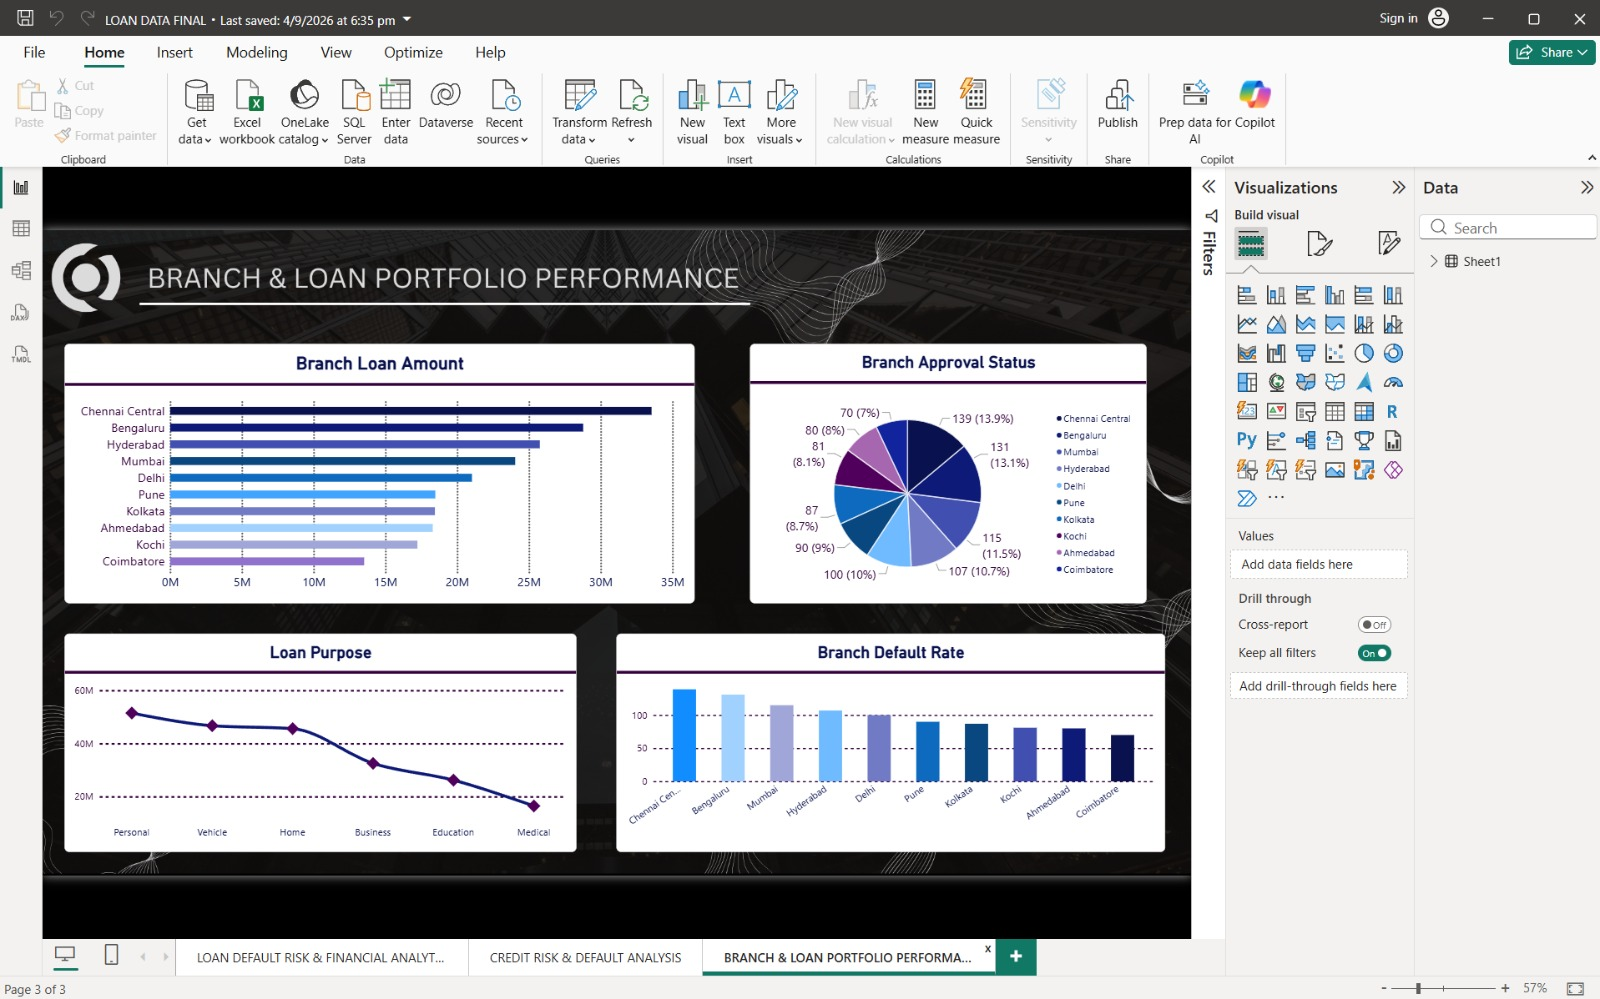

Layout of this report page (visuals, bound fields, positions):
{"tool":"powerbi","page":{"name":"BRANCH & LOAN PORTFOLIO PERFORMANCE","canvas":[1920,1080],"ordinal":2},"visuals":[{"type":"shape","box":[161.5,15.4,1021.2,215.4],"z":0},{"type":"barChart","title":"Branch Loan Amount","fields":{"Category":["Sheet1.Branch"],"Y":["Sum(Sheet1.Loan_Amount_INR)"]},"box":[36.5,190.4,1053.8,434.6],"z":1},{"type":"columnChart","title":"Branch Default Rate","fields":{"Category":["Sheet1.Branch"],"Y":["CountNonNull(Sheet1.Default_Status)"]},"box":[959.6,675,917.3,365.4],"z":2},{"type":"lineChart","title":"Loan Purpose","fields":{"Category":["Sheet1.Loan_Purpose"],"Y":["Sum(Sheet1.Loan_Amount_INR)"]},"box":[36.5,675,855.8,365.4],"z":3},{"type":"pieChart","title":"Branch Approval Status","fields":{"Category":["Sheet1.Branch"],"Y":["CountNonNull(Sheet1.Approval_Status)"]},"box":[1182.7,190.4,663.5,434.6],"z":4}]}

Visuals, with their boxes on the page's 1920x1080 design canvas (x1, y1, x2, y2). These are canvas units, not pixel positions in the 1600x999 screenshot, which may show the page scaled, cropped or inside an application window:
shape: x1=162, y1=15, x2=1183, y2=231
"Branch Loan Amount" barChart: x1=36, y1=190, x2=1090, y2=625
"Branch Default Rate" columnChart: x1=960, y1=675, x2=1877, y2=1040
"Loan Purpose" lineChart: x1=36, y1=675, x2=892, y2=1040
"Branch Approval Status" pieChart: x1=1183, y1=190, x2=1846, y2=625
